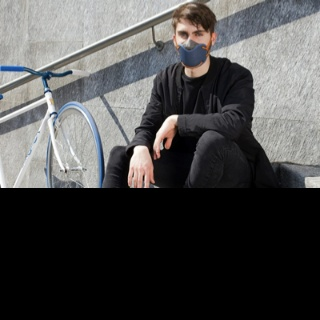with_mask: (175, 28, 210, 68)
